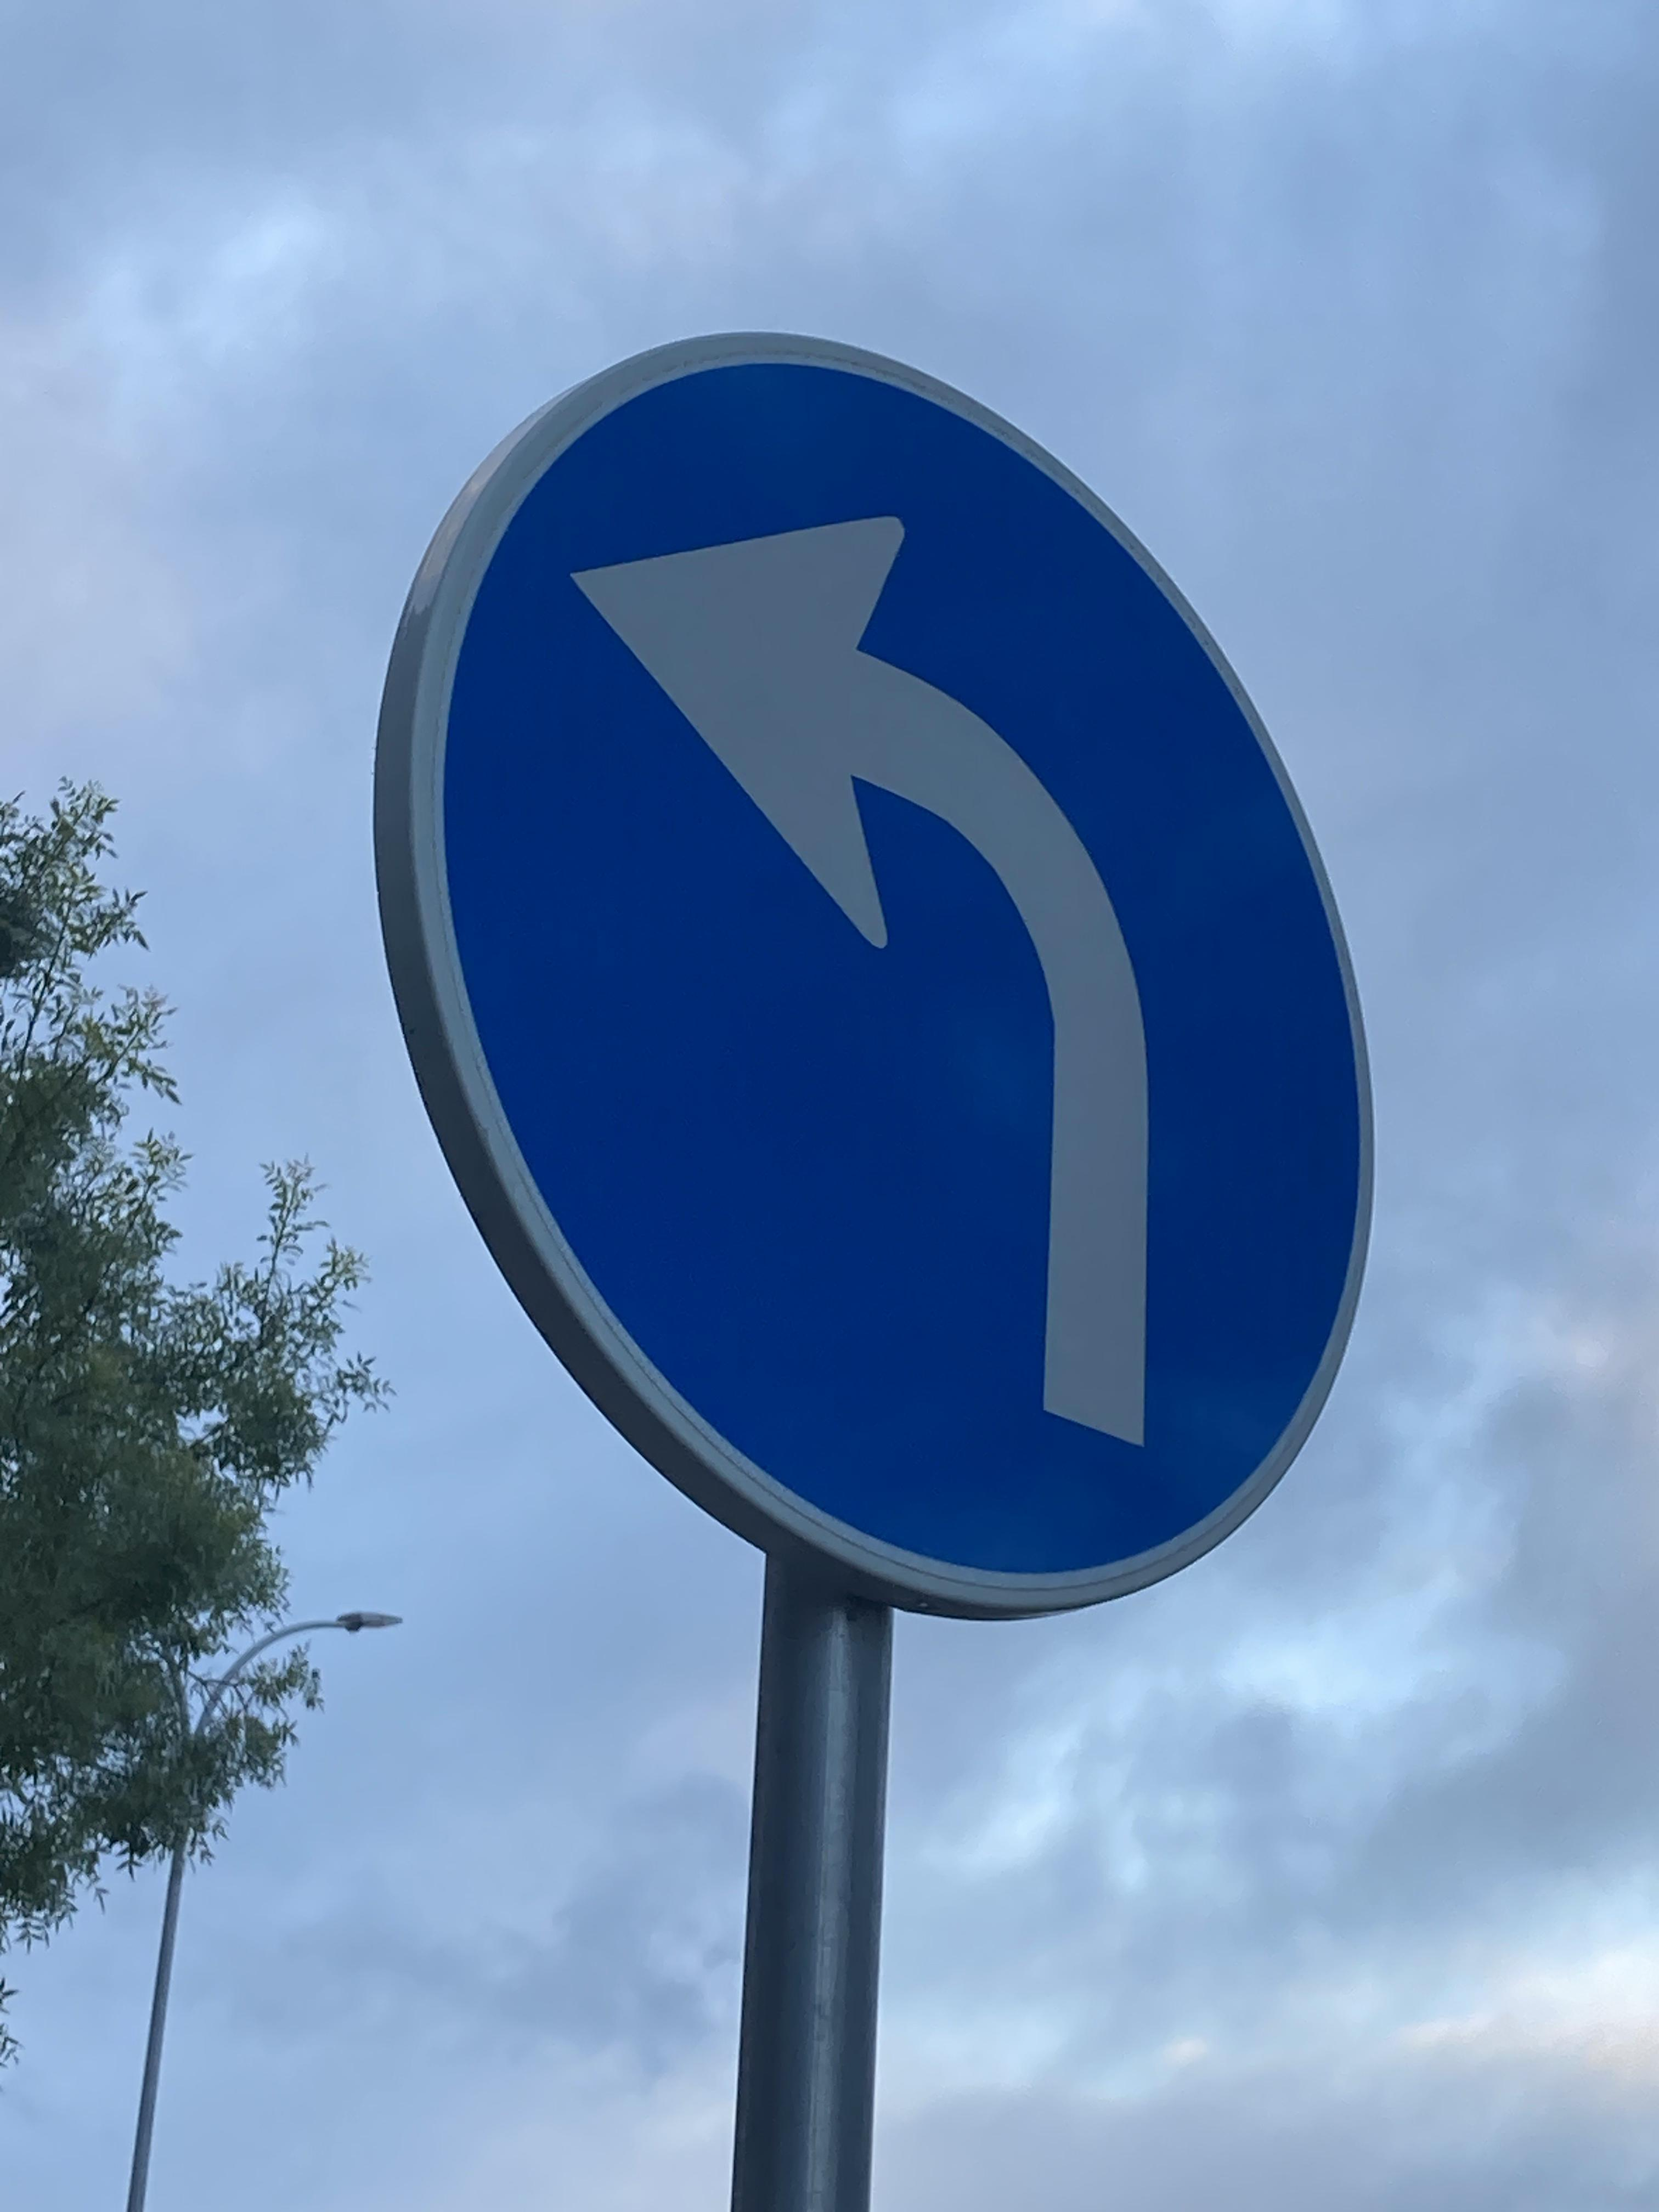sentido obrigatorio: (291, 286, 1420, 1684)
